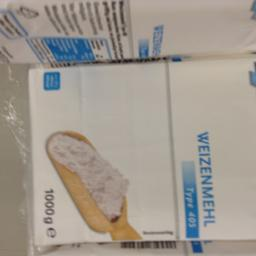flour: (25, 55, 255, 249)
